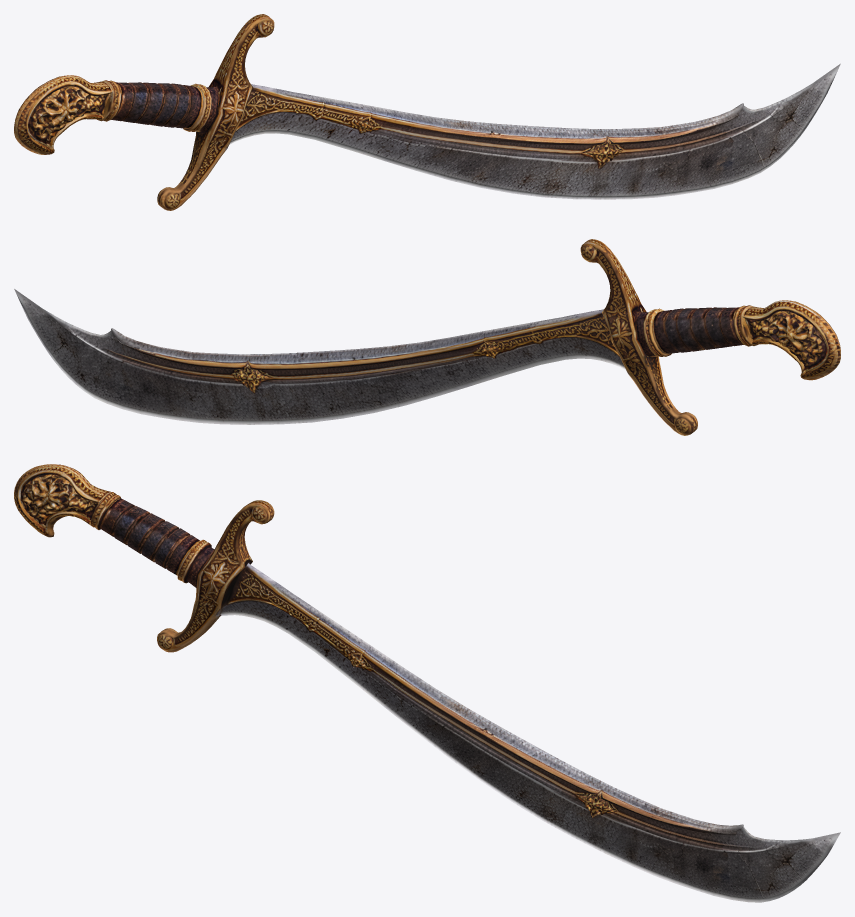
The model's file is ornate+curved+sword+3d+model.fbx.
The picture shows the model from 3 angles, top to bottom: view 1: azimuth 30°, elevation 25°; view 2: azimuth 150°, elevation 25°; view 3: azimuth 330°, elevation 25°; orthographic projection.
Visible parts, largest first — view 1: d67c8f84_93a9_43c7_8b41_82814307cba2; view 2: d67c8f84_93a9_43c7_8b41_82814307cba2; view 3: d67c8f84_93a9_43c7_8b41_82814307cba2.
Boxes of the visible parts, box(x1,y1,x2,y2) form: d67c8f84_93a9_43c7_8b41_82814307cba2: box(14, 14, 840, 210); d67c8f84_93a9_43c7_8b41_82814307cba2: box(14, 239, 840, 435); d67c8f84_93a9_43c7_8b41_82814307cba2: box(14, 464, 840, 902).
Bounding box in the file's own units: 0.9995 × 0.3276 × 0.0483.
1 material, 1 textured.
